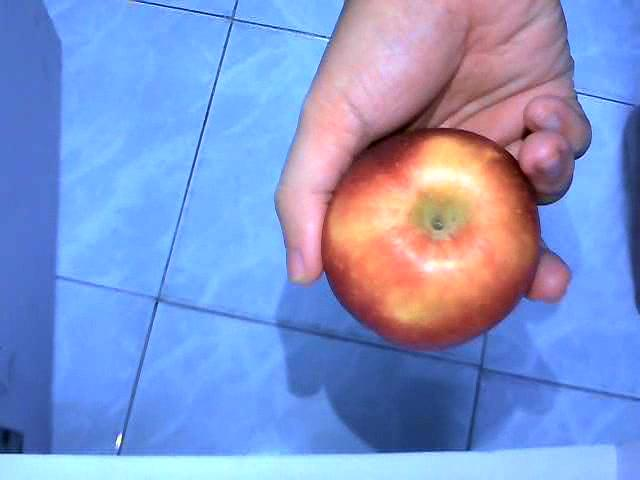apple: (318, 127, 541, 349)
